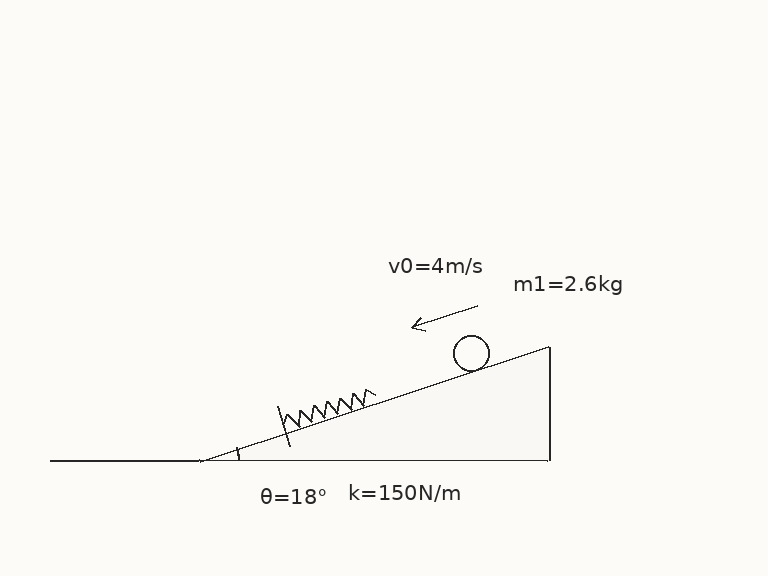ball: (451, 333, 491, 373)
ramp: (197, 345, 550, 462)
spring: (281, 387, 376, 428)
